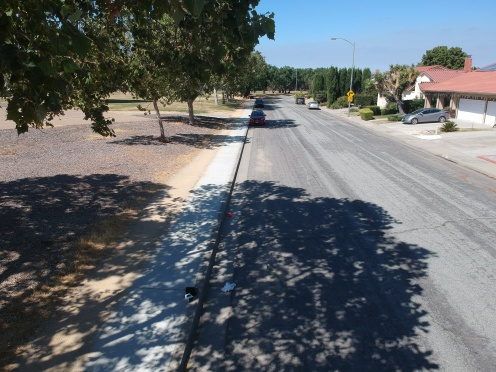plastic bag: (216, 279, 241, 298)
